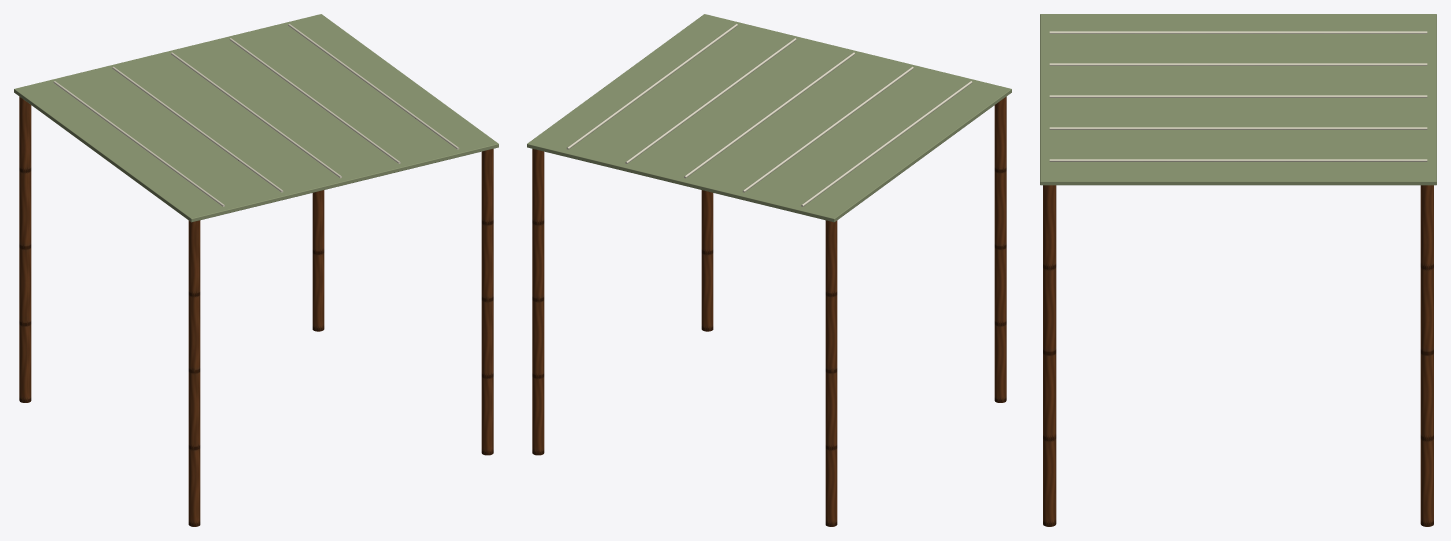
File: survival-greenhouse-and-irrigation-shade-cloth-canopy-925e3396__21305.glb
3 views of the same model, side by side, from view 1: azimuth 30°, elevation 25°; view 2: azimuth 150°, elevation 25°; view 3: azimuth 270°, elevation 25° (orthographic). The views are drawn at different scales.
Visible parts, largest first — view 1: shade-cloth-canopy; view 2: shade-cloth-canopy; view 3: shade-cloth-canopy.
Part boxes in pixels (x1,y1,x2,y2): shade-cloth-canopy: (14, 14, 498, 526); shade-cloth-canopy: (527, 14, 1011, 526); shade-cloth-canopy: (1040, 14, 1436, 526).
Size of the model in its own units: 2.1 by 2.04 by 2.1.
Materials: 3 (1 with a texture image).
